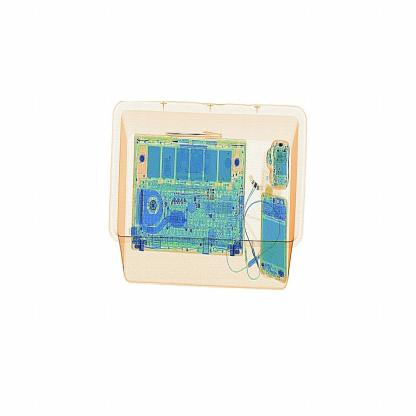wrench: (156, 118, 238, 148)
